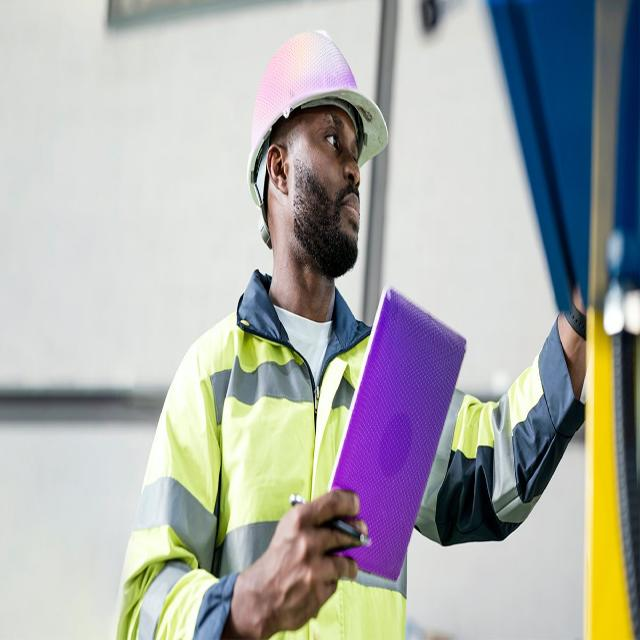helmet: (238, 22, 398, 206)
no-goggles: (286, 106, 370, 179)
vest: (114, 264, 574, 640)
